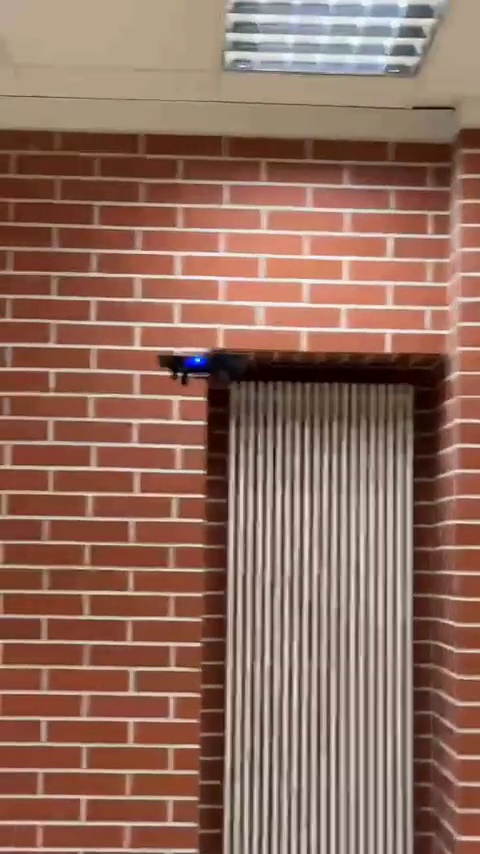drone: (156, 349, 240, 378)
